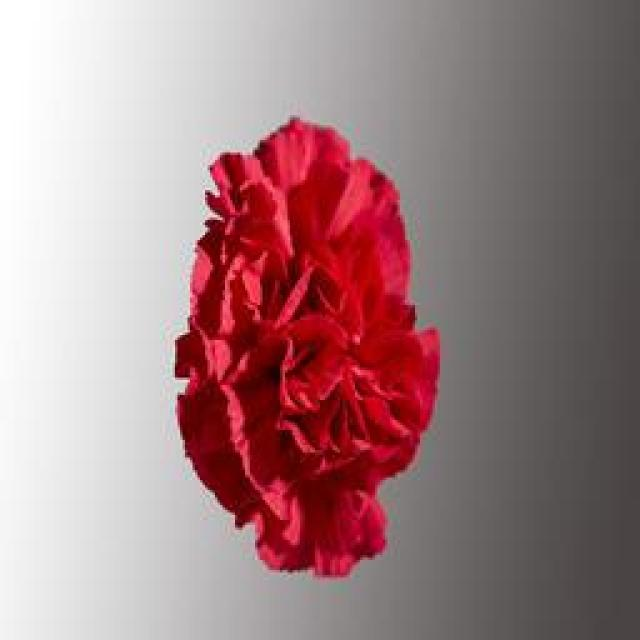carnation: (158, 104, 485, 575)
